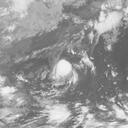cyclone: (55, 58, 73, 78)
